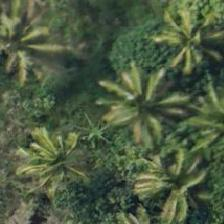coconut_tree: (95, 58, 185, 148), (10, 116, 100, 206), (127, 141, 217, 223), (143, 0, 223, 86), (0, 0, 68, 89)
